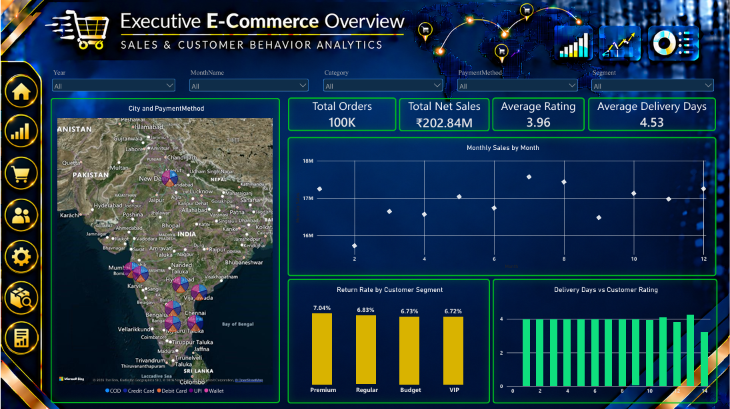

The dashboard page shown, as its layout file describes it:
{"tool":"powerbi","page":{"name":"Sales Trends & Operations - 5","canvas":[1920,1080],"ordinal":4},"visuals":[{"type":"slicer","title":"123","fields":{"Values":["Dim_Date.Year"]},"box":[129.3,182.7,334,60],"z":0},{"type":"slicer","title":"123","fields":{"Values":["Dim_Date.MonthName"]},"box":[490,182.7,323.3,60],"z":1000},{"type":"slicer","title":"123","fields":{"Values":["Dim_Product.Category"]},"box":[842,182.7,324,60],"z":2000},{"type":"slicer","title":"123","fields":{"Values":["Fact_EcommerceSales.PaymentMethod"]},"box":[1194,182.7,327.3,60],"z":3000},{"type":"slicer","title":"123","fields":{"Values":["Dim_Customer.Segment"]},"box":[1547.3,182.7,332,60],"z":4000},{"type":"cardVisual","fields":{"Data":["Measures Table.Total Net Sales"]},"box":[1046.4,260,237.5,87.5],"z":5000},{"type":"cardVisual","fields":{"Data":["Measures Table.Average Rating"]},"box":[1290.9,259.1,242.7,88.2],"z":6000},{"type":"cardVisual","fields":{"Data":["Measures Table.Average Delivery Days"]},"box":[1542.7,259.1,336.4,88.2],"z":7000},{"type":"cardVisual","fields":{"Data":["Measures Table.Total Orders"]},"box":[753.6,259.1,285,87.5],"z":8000},{"type":"columnChart","title":"Delivery Days vs Customer Rating","fields":{"Category":["Fact_EcommerceSales.DeliveryDays"],"Y":["Measures Table.Average Rating"]},"box":[1291.8,736.2,590.8,328.2],"z":9000},{"type":"scatterChart","fields":{"X":["Dim_Date.Month"],"Y":["Measures Table.Monthly Sales"]},"box":[752.6,363.4,1127.7,365.7],"z":10000},{"type":"columnChart","title":"Return Rate by Customer Segment","fields":{"Category":["Dim_Customer.Segment"],"Y":["Measures Table.Return Rate"]},"box":[752.6,736.2,532.2,328.2],"z":11000},{"type":"map","fields":{"Category":["Dim_Customer.City"],"Series":["Fact_EcommerceSales.PaymentMethod"]},"box":[130,260,602.5,802.5],"z":12000},{"type":"image","box":[6,192.7,90.7,99.3],"z":14000},{"type":"image","box":[6,840.7,90.7,99.3],"z":15000},{"type":"image","box":[6,296.7,90.7,99.3],"z":16000},{"type":"image","box":[4.4,735.6,97.5,99.4],"z":17000},{"type":"image","box":[6,408,90.7,99.3],"z":18000},{"type":"image","box":[6,518,90.7,99.3],"z":19000},{"type":"image","box":[6,624,90.7,104.7],"z":20000}]}

Visuals, with their boxes in screenshot pixels (x1, y1, x2, y2), scaled from the page's 1920x1080 canvas onto the 730x409 screenshot:
"123" slicer: box=[49, 69, 176, 92]
"123" slicer: box=[186, 69, 309, 92]
"123" slicer: box=[320, 69, 443, 92]
"123" slicer: box=[454, 69, 578, 92]
"123" slicer: box=[588, 69, 715, 92]
cardVisual - Measures Table.Total Net Sales: box=[398, 98, 488, 132]
cardVisual - Measures Table.Average Rating: box=[491, 98, 583, 132]
cardVisual - Measures Table.Average Delivery Days: box=[587, 98, 714, 132]
cardVisual - Measures Table.Total Orders: box=[287, 98, 395, 131]
"Delivery Days vs Customer Rating" columnChart: box=[491, 279, 716, 403]
scatterChart - Dim_Date.Month x Measures Table.Monthly Sales: box=[286, 138, 715, 276]
"Return Rate by Customer Segment" columnChart: box=[286, 279, 488, 403]
map - Dim_Customer.City x Fact_EcommerceSales.PaymentMethod: box=[49, 98, 279, 402]
image: box=[2, 73, 37, 111]
image: box=[2, 318, 37, 356]
image: box=[2, 112, 37, 150]
image: box=[2, 279, 39, 316]
image: box=[2, 155, 37, 192]
image: box=[2, 196, 37, 234]
image: box=[2, 236, 37, 276]
